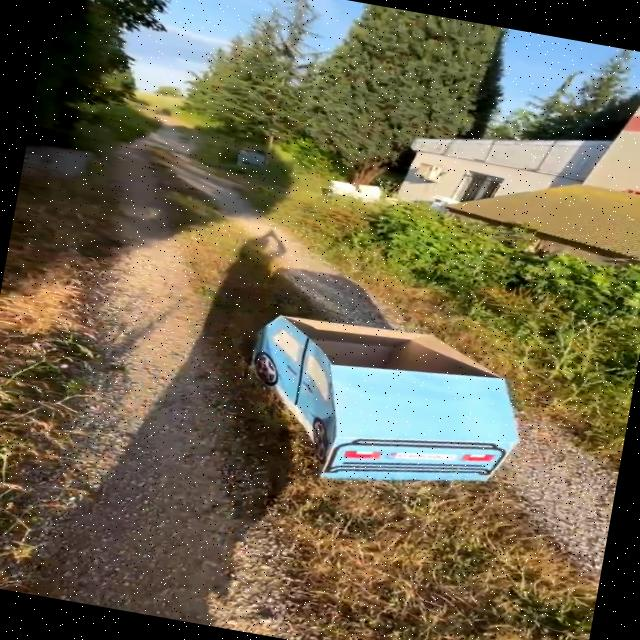blue_car: (176, 265, 557, 542)
